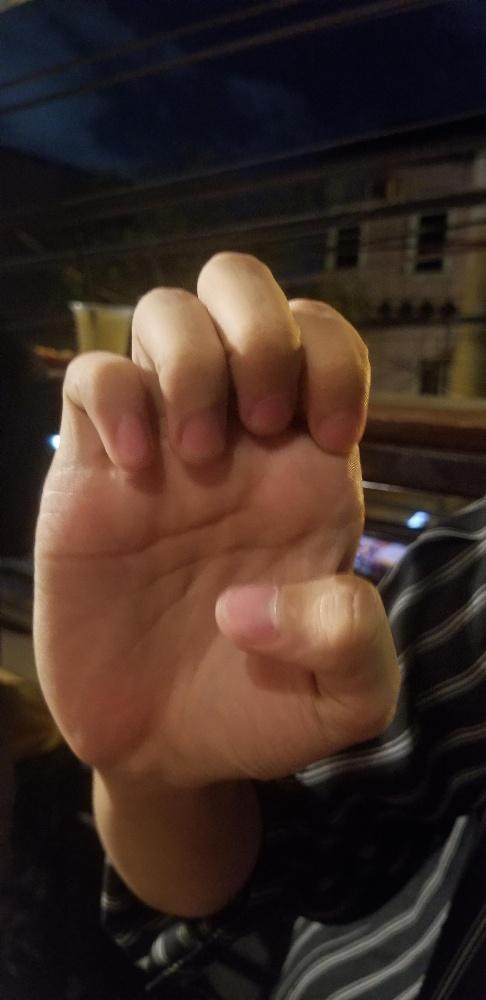e: (27, 246, 408, 782)
